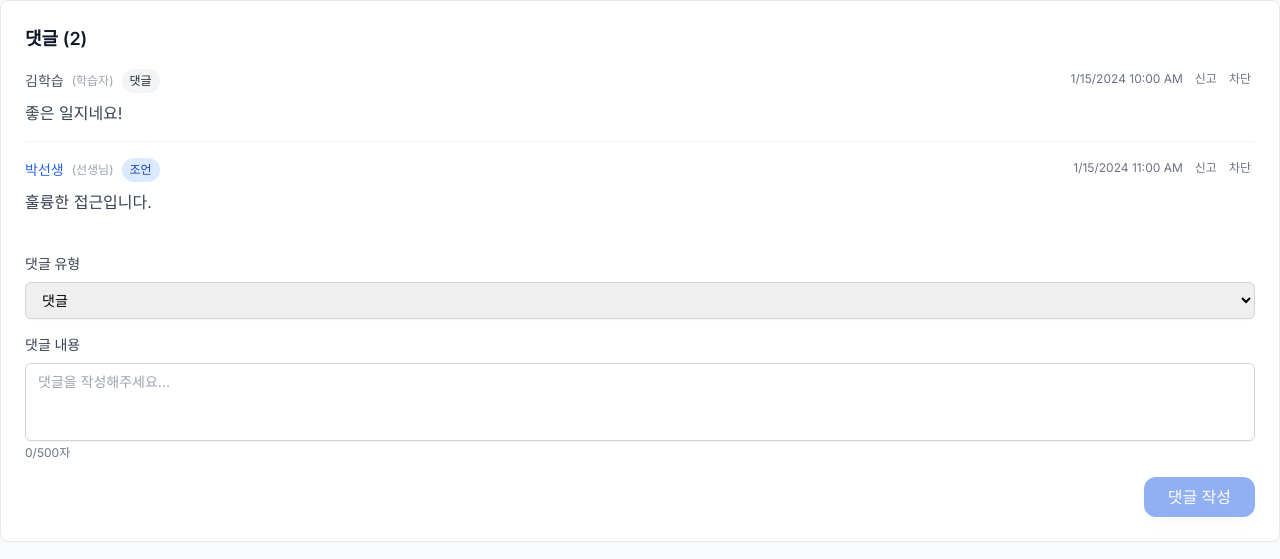
Test: CommentSection › shows character count
The image size is (1280, 559).
In the text box labelled "댓글 내용": (640, 402) [25,363,1255,441], type "Hello"
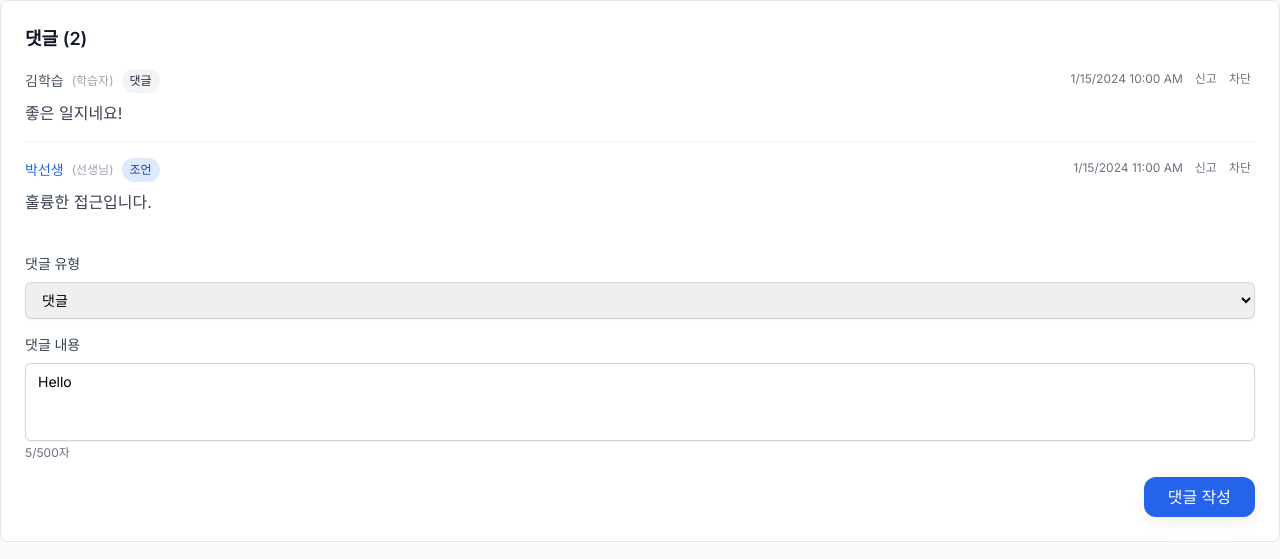
Now the text "5/500자" is shown, box [25,445,70,461]
